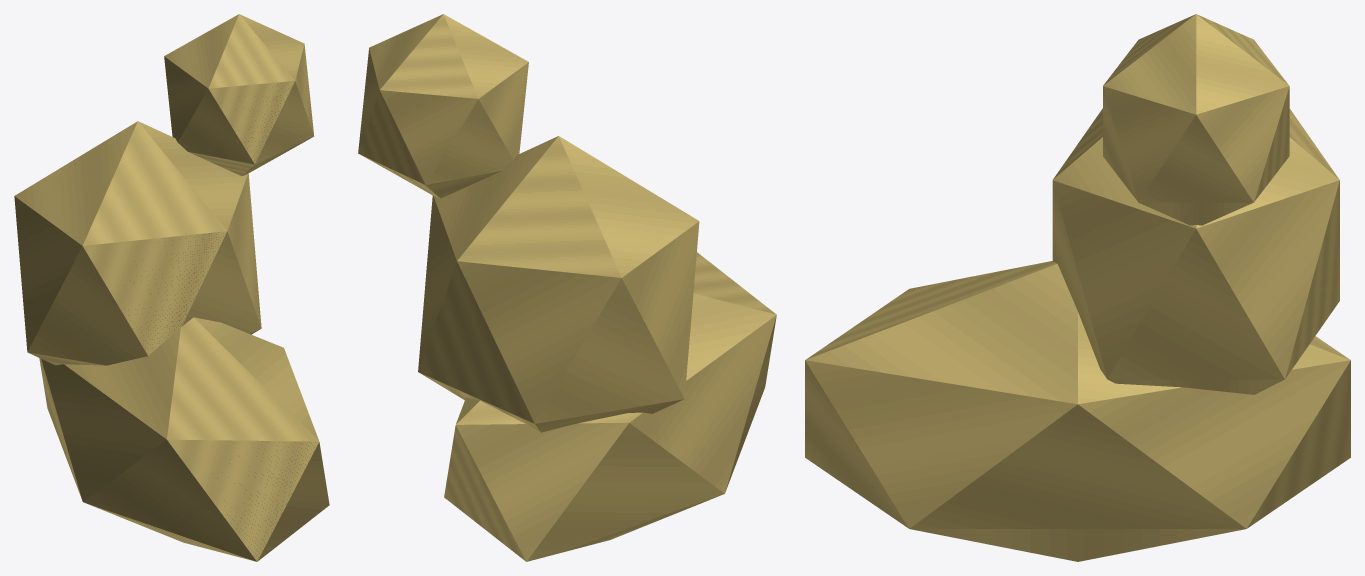
Rendered from step_orb.glb.
3 renders of one model, left to right at view 1: azimuth 30°, elevation 25°; view 2: azimuth 150°, elevation 25°; view 3: azimuth 270°, elevation 25°, orthographic. The views are drawn at different scales.
Visible parts, largest first — view 1: gear_step_orb; view 2: gear_step_orb; view 3: gear_step_orb.
Part boxes in pixels (x1,y1,x2,y2): gear_step_orb: (14, 14, 329, 561); gear_step_orb: (358, 14, 776, 561); gear_step_orb: (805, 14, 1350, 561).
Size of the model in its own units: 0.2465 by 0.4 by 0.3232.
1 material, 1 textured.
